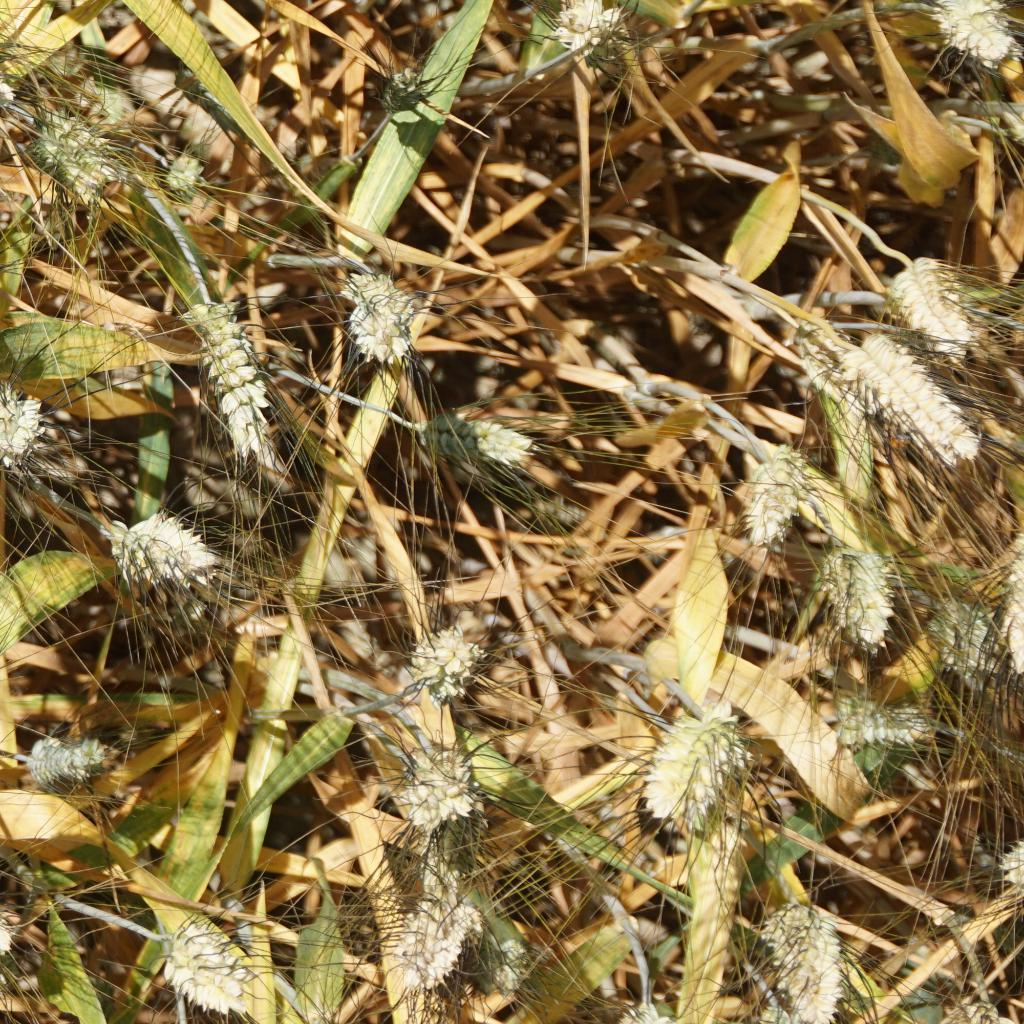0-0: (193, 290, 283, 455), (854, 344, 981, 460), (772, 892, 850, 1024), (647, 716, 738, 826), (408, 399, 539, 472), (153, 911, 244, 1011), (884, 261, 989, 342), (112, 515, 214, 595), (826, 544, 903, 647), (399, 736, 483, 828), (732, 443, 806, 541), (839, 685, 943, 753), (389, 888, 464, 981), (937, 0, 1018, 79), (927, 592, 1001, 678), (34, 112, 109, 195), (358, 271, 416, 368), (416, 614, 487, 692), (554, 0, 635, 68), (22, 738, 116, 790), (0, 385, 47, 472), (477, 931, 537, 996), (163, 146, 210, 203), (374, 73, 423, 113), (0, 944, 14, 1001)
